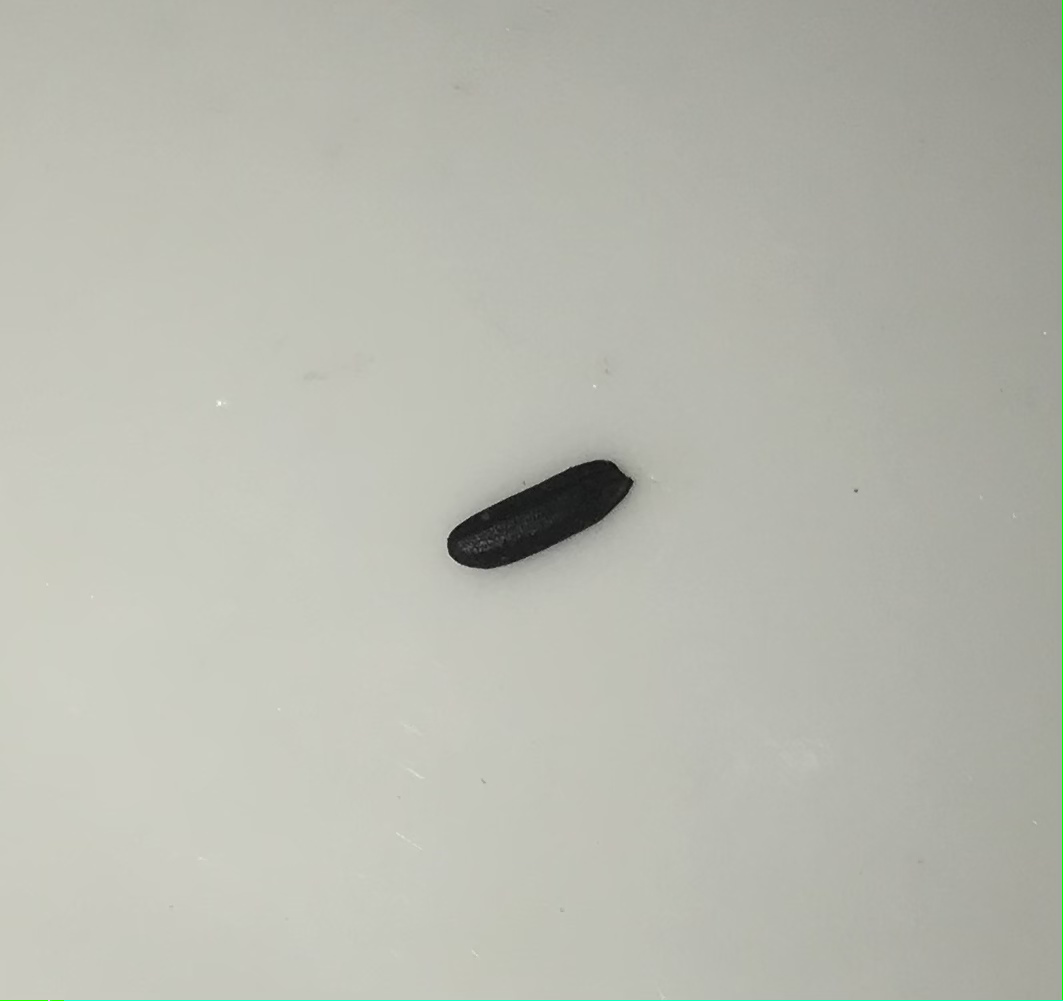Gao Nep Cam: (441, 456, 642, 581)
